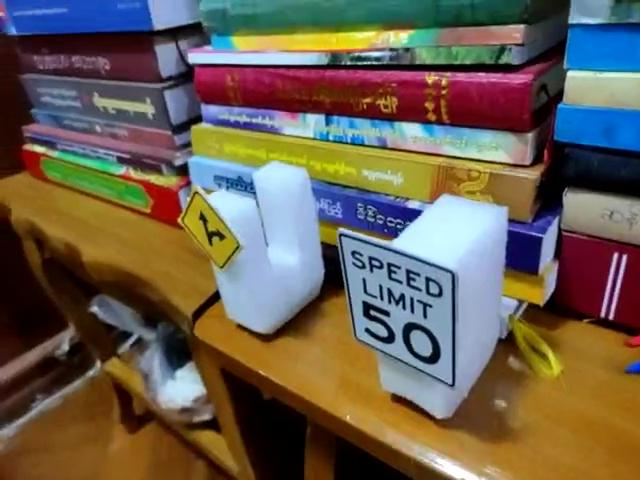Speed Limit 50: (333, 225, 461, 384)
Straight Or Right Sign: (177, 187, 243, 272)
